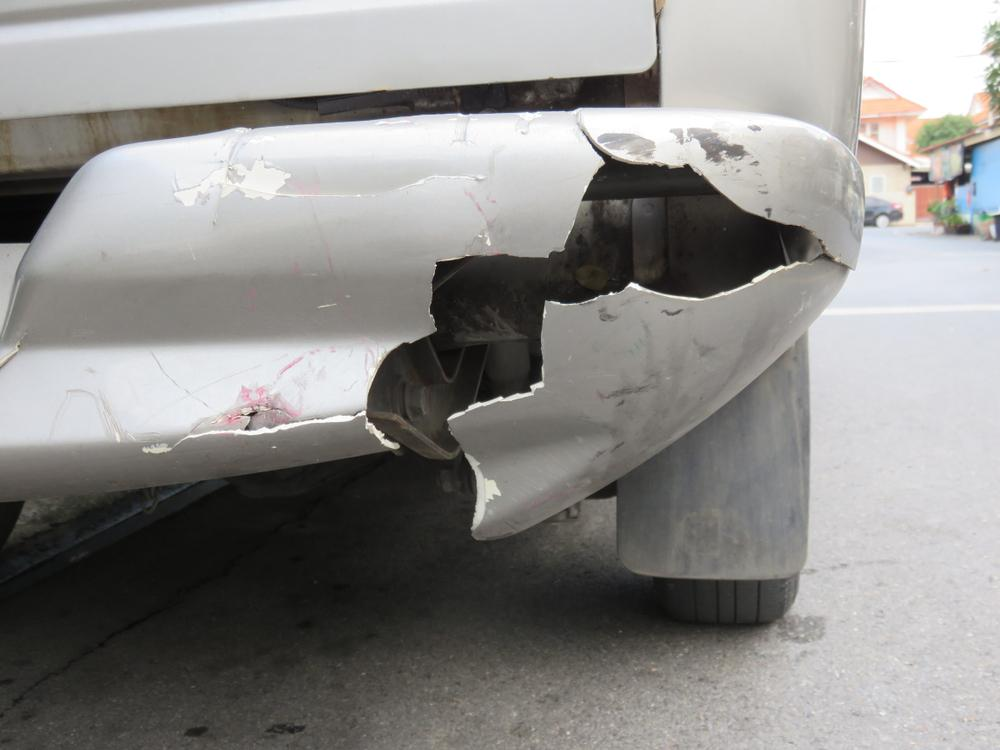crack: (173, 114, 855, 536)
scratch: (602, 119, 774, 218)
